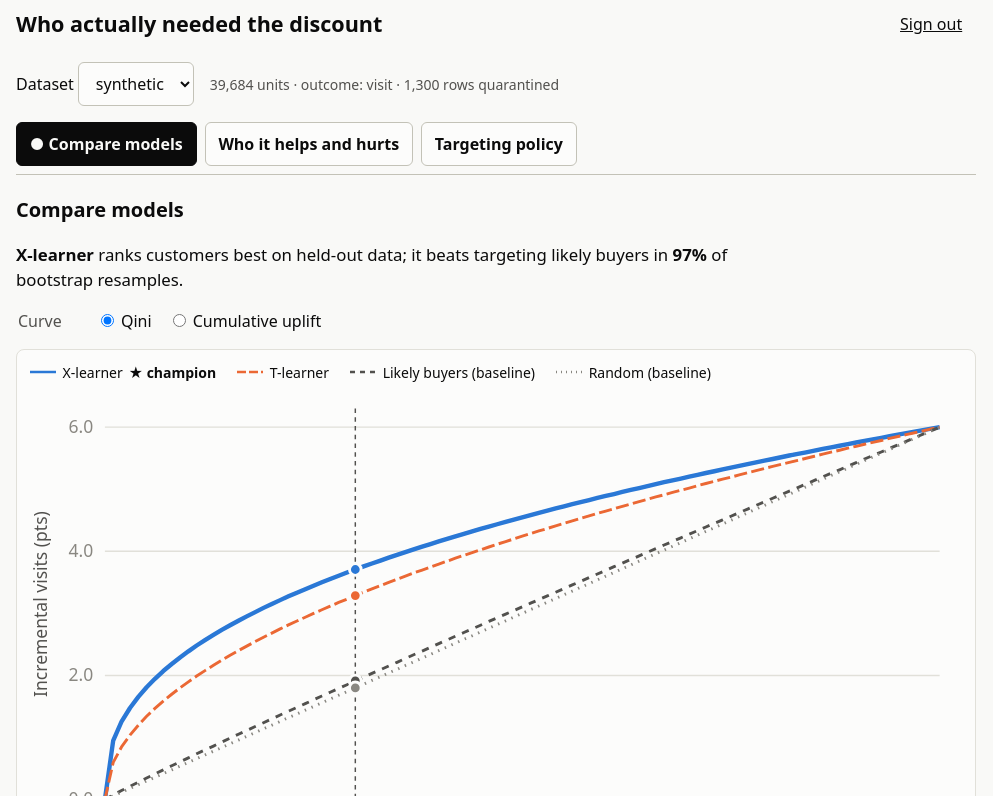
Scenario: building a policy › explains a policy too small to evaluate, and one that is waiting for batch scoring
Expected: the text "ranks customers best" is shown, [94,243,402,266]
Click the button "Targeting policy" at (499, 144), box [421,122,577,166]
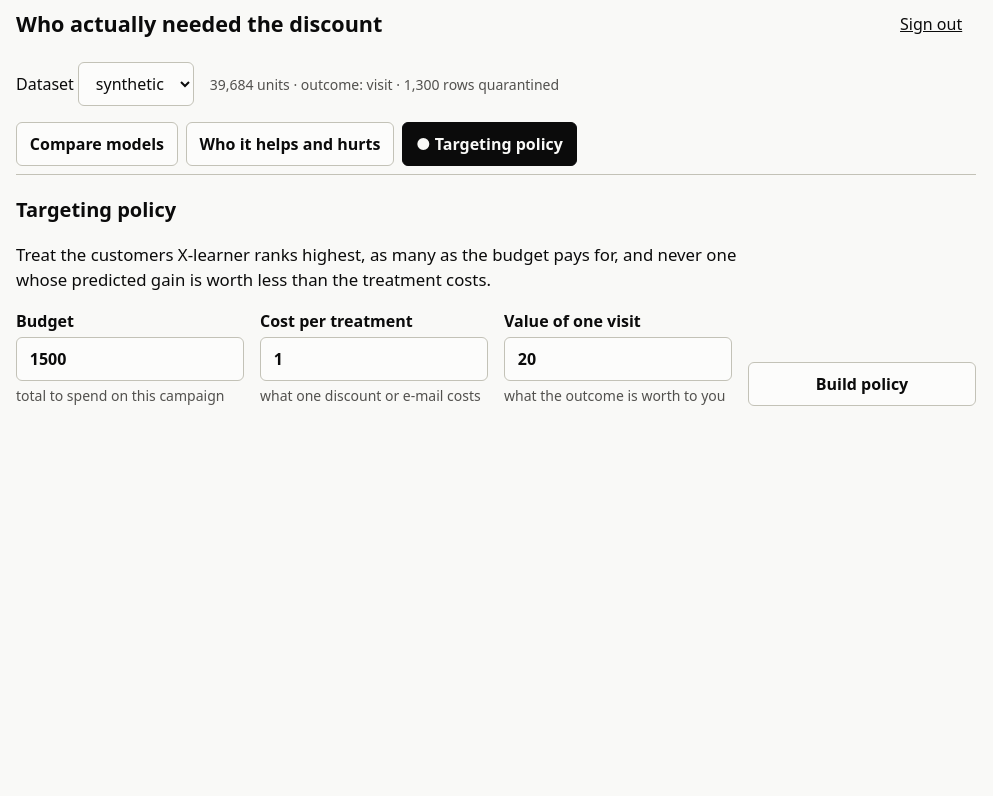
Click the button "Build policy" at (862, 384), box [748,362,976,406]
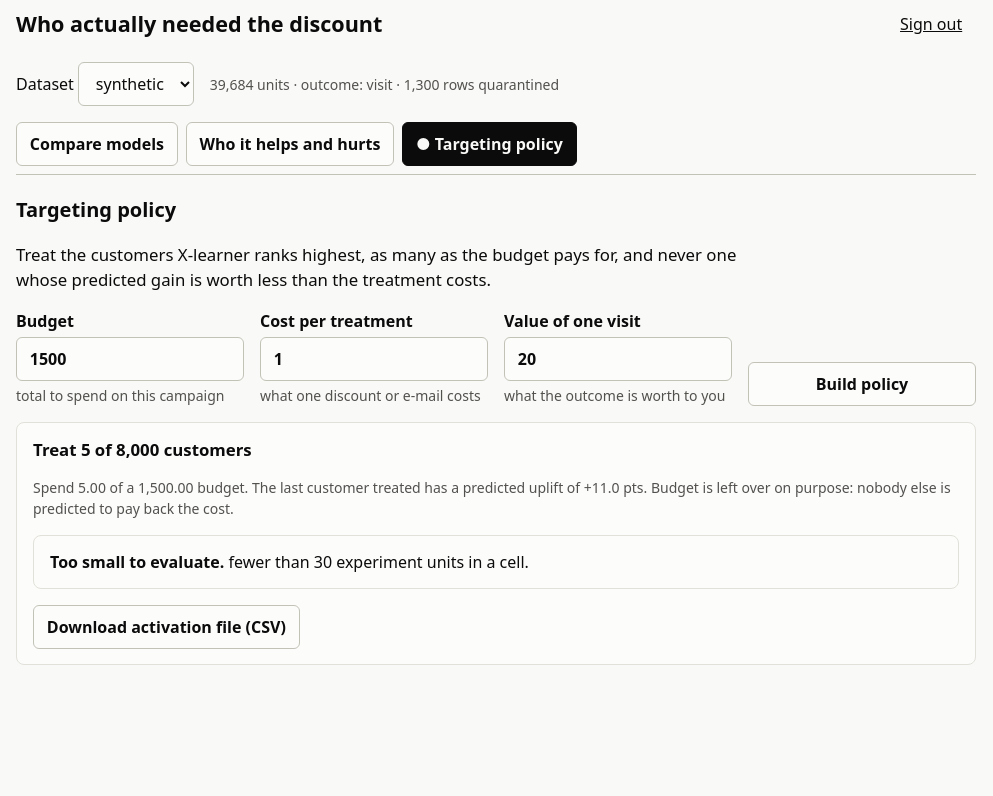
Now the text "Too small to evaluate." is shown, box [50,551,224,573]
